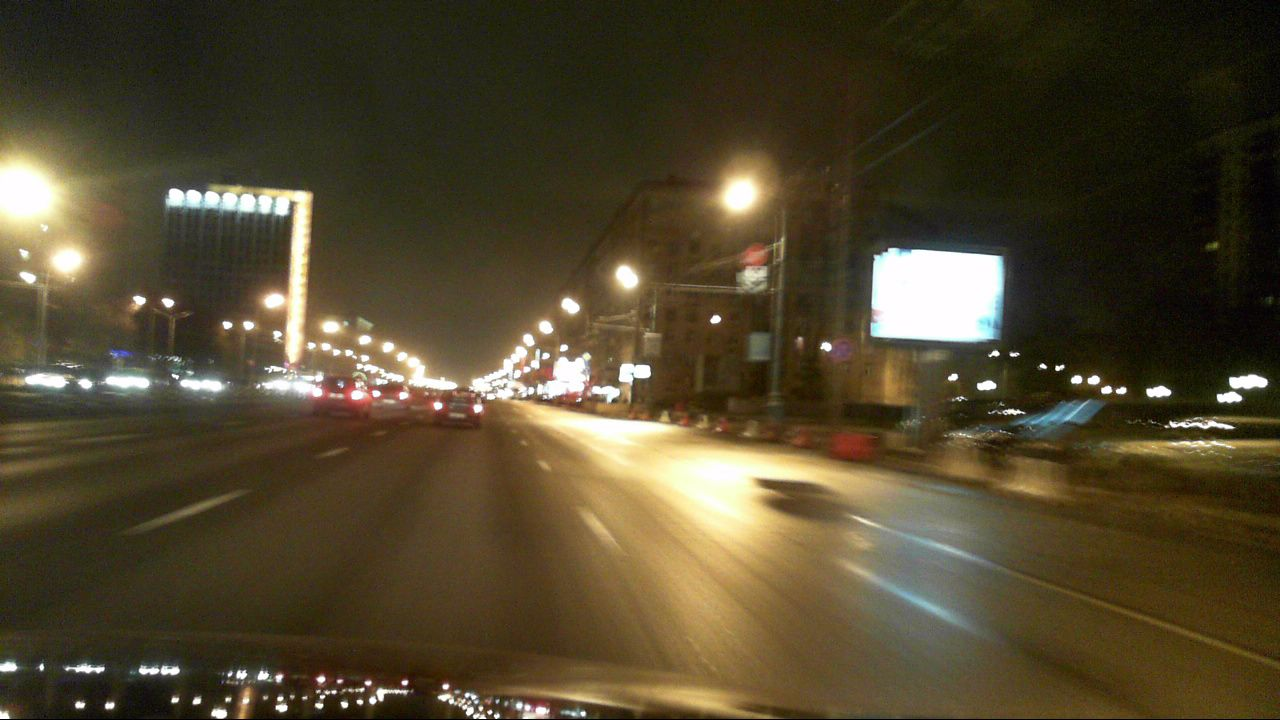No Parking: (829, 337, 854, 361)
